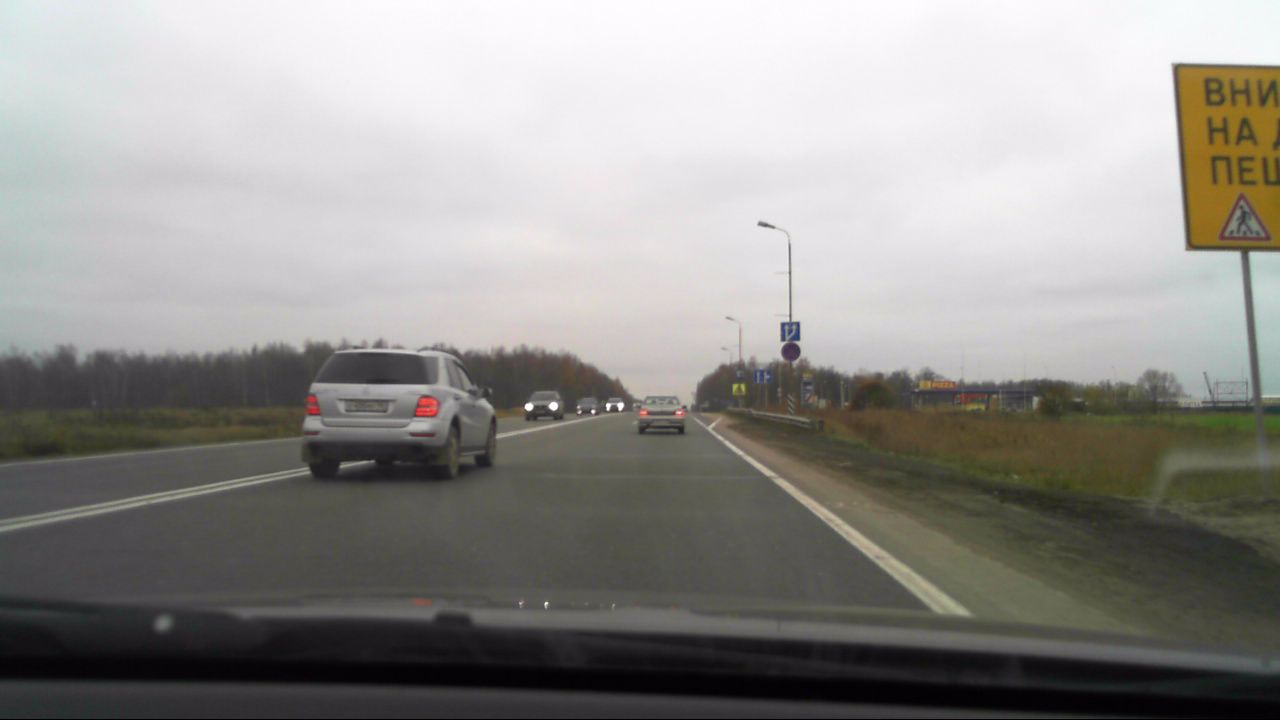No Parking: (780, 342, 802, 362)
